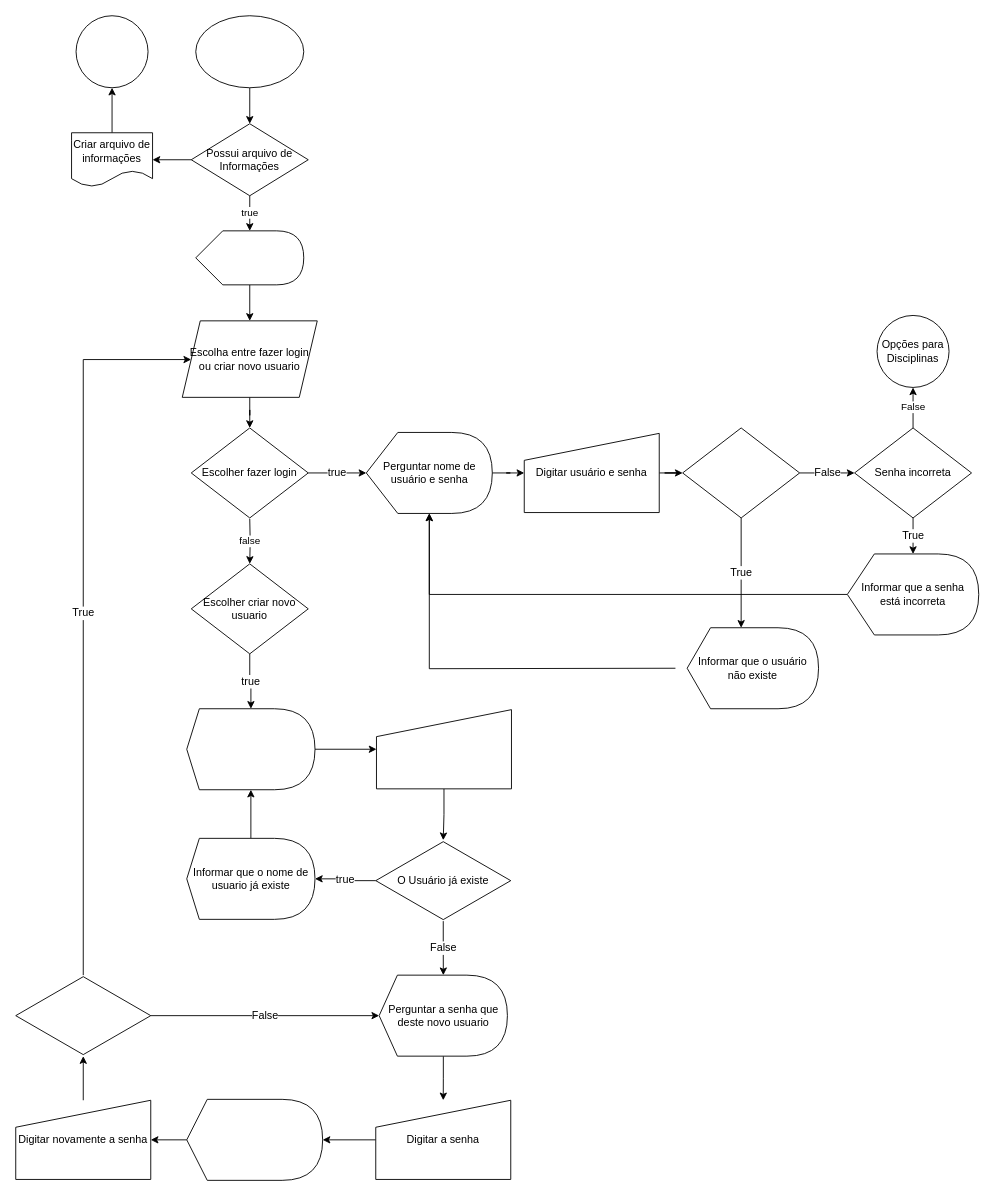
The diagram is 995 pixels wide and 1196 high, and some of its shapes have lost their labels. The shapes that lost their labels are listed below. From the top down, each one's box as (x1, y1, x2, y2) in pixels, then its label:
(75, 15, 148, 88): Tutorial do App
(195, 15, 304, 88): Abrir Programa
(195, 230, 304, 285): Exibir tela de login
(682, 427, 800, 518): Usuário não encontrado
(186, 708, 315, 790): Perguntar nome do novo usuario
(376, 709, 511, 789): Digitar nome do novo usuario
(15, 974, 151, 1056): A senha é igual a primeira senha
(186, 1098, 323, 1180): Pedir para repetir a senha
